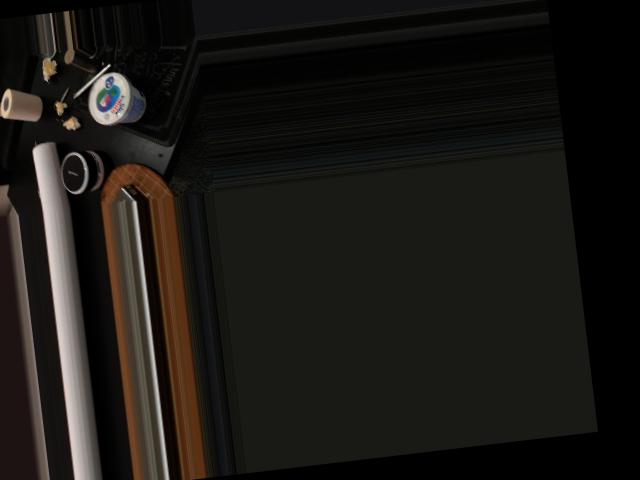cotage: (88, 67, 151, 124)
